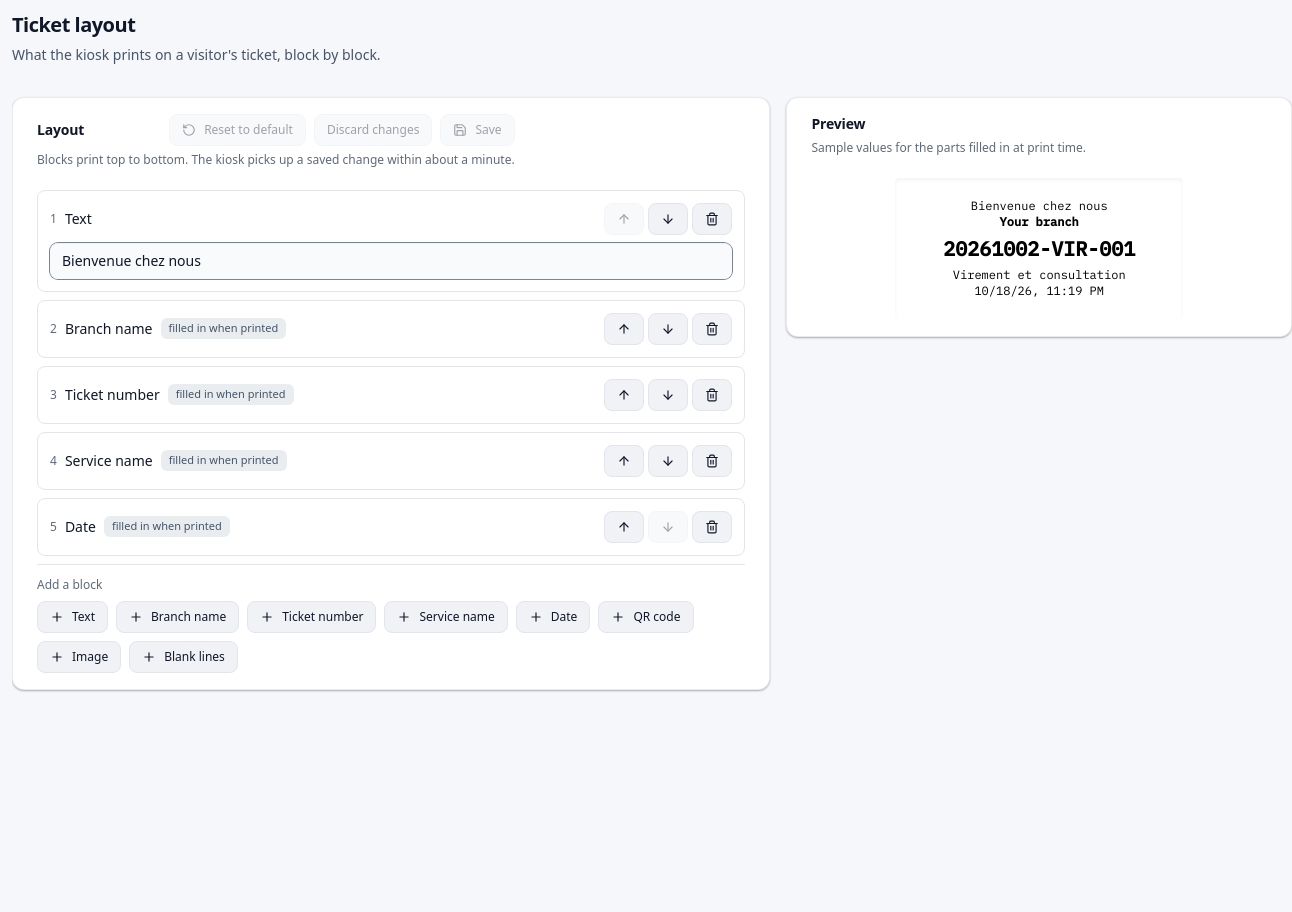
Test: TicketTemplate › saves an edit and keeps it after a reload of the layout
Expected: the button named "move block 1, text down" is shown, [648,202,688,234]
Click the button named "add text block".
click(72, 616)  # box [37,600,108,632]
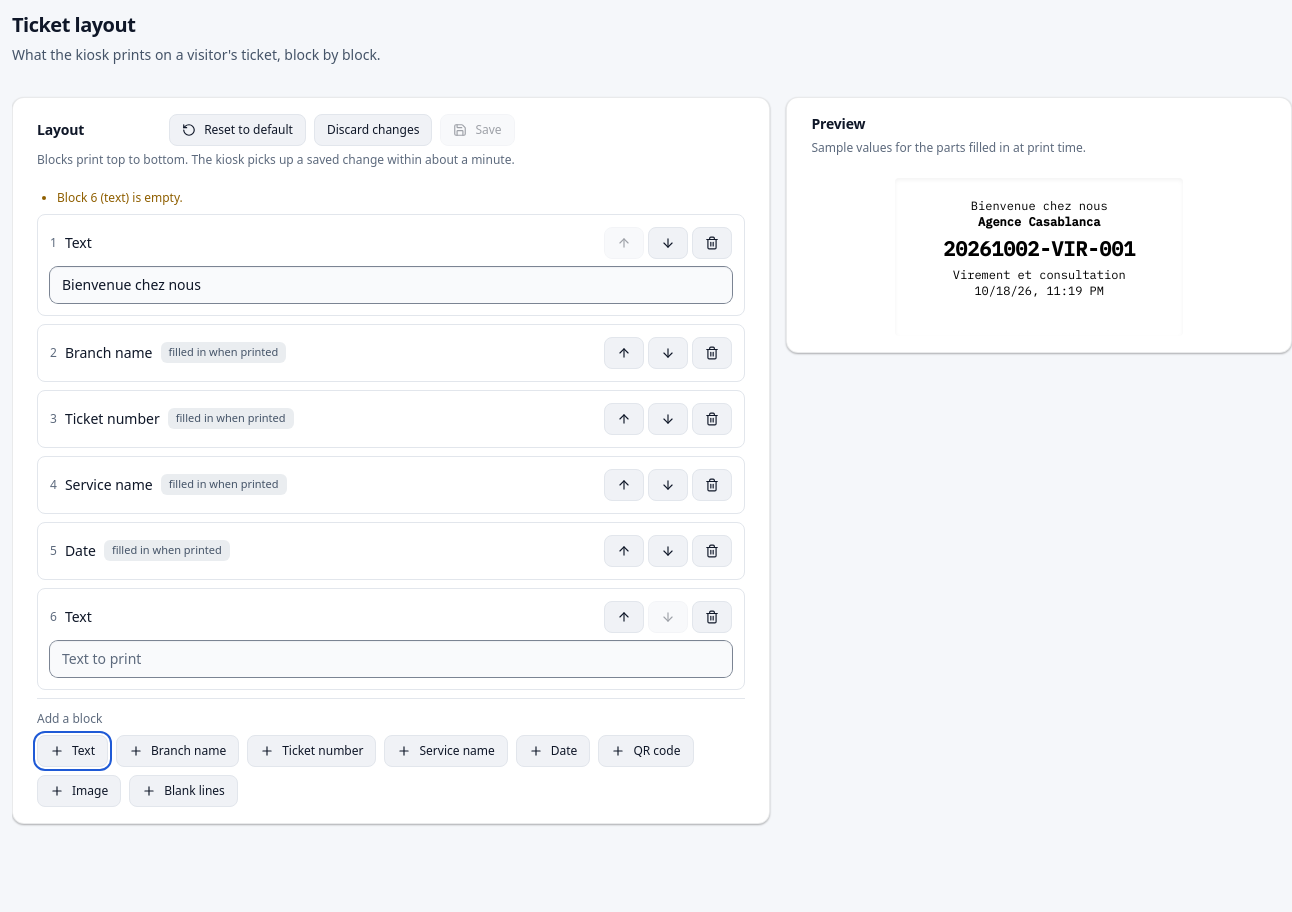
Type "Merci de votre visite" into the field named "Text content, block 6".
click(391, 658); type("Merci de votre visite")  # box [50,640,732,676]
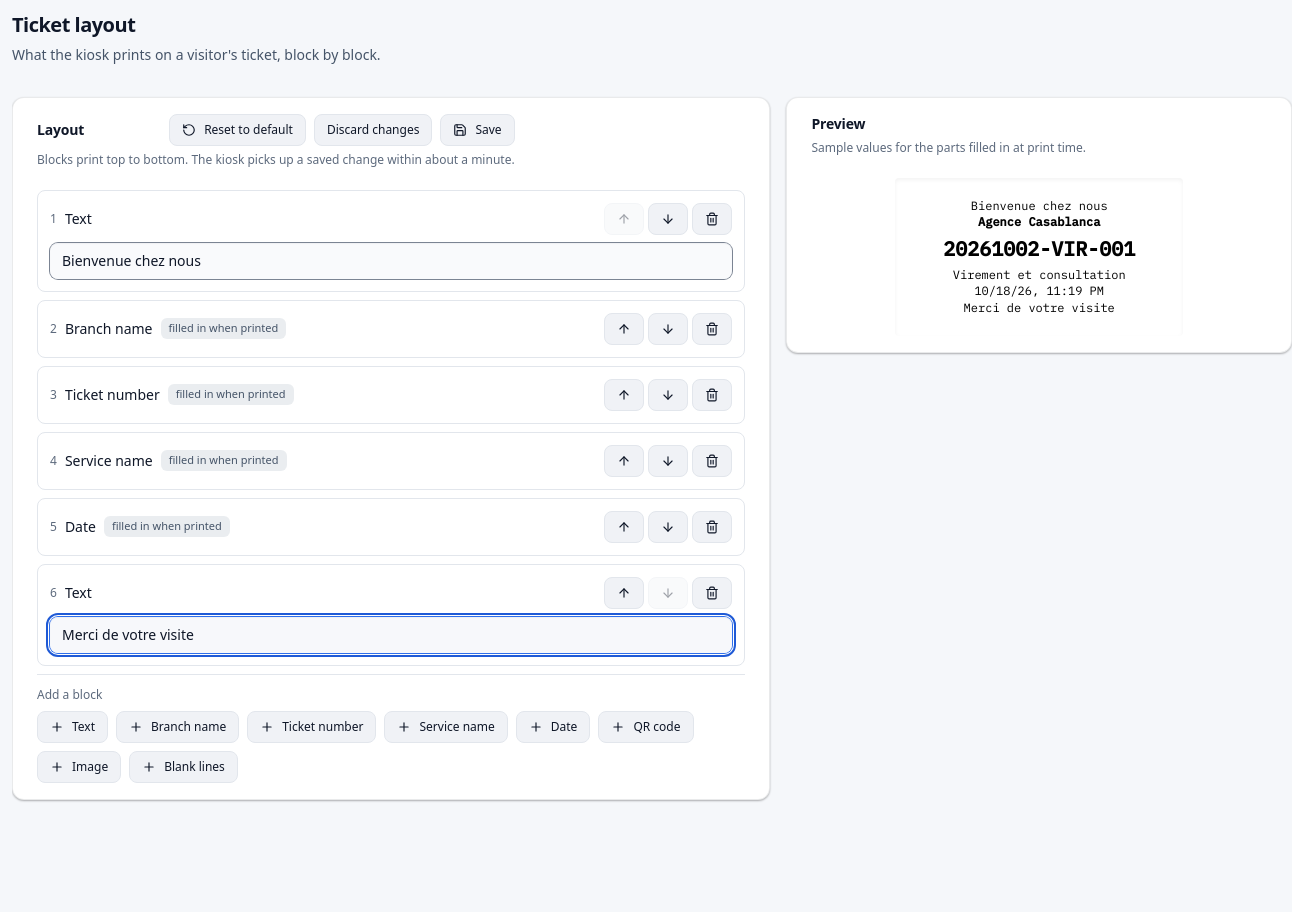
Result: the text "Merci de votre visite" is shown at [964,300,1115,314]
Click the button "Save".
click(478, 130)  # box [440,114,515,146]
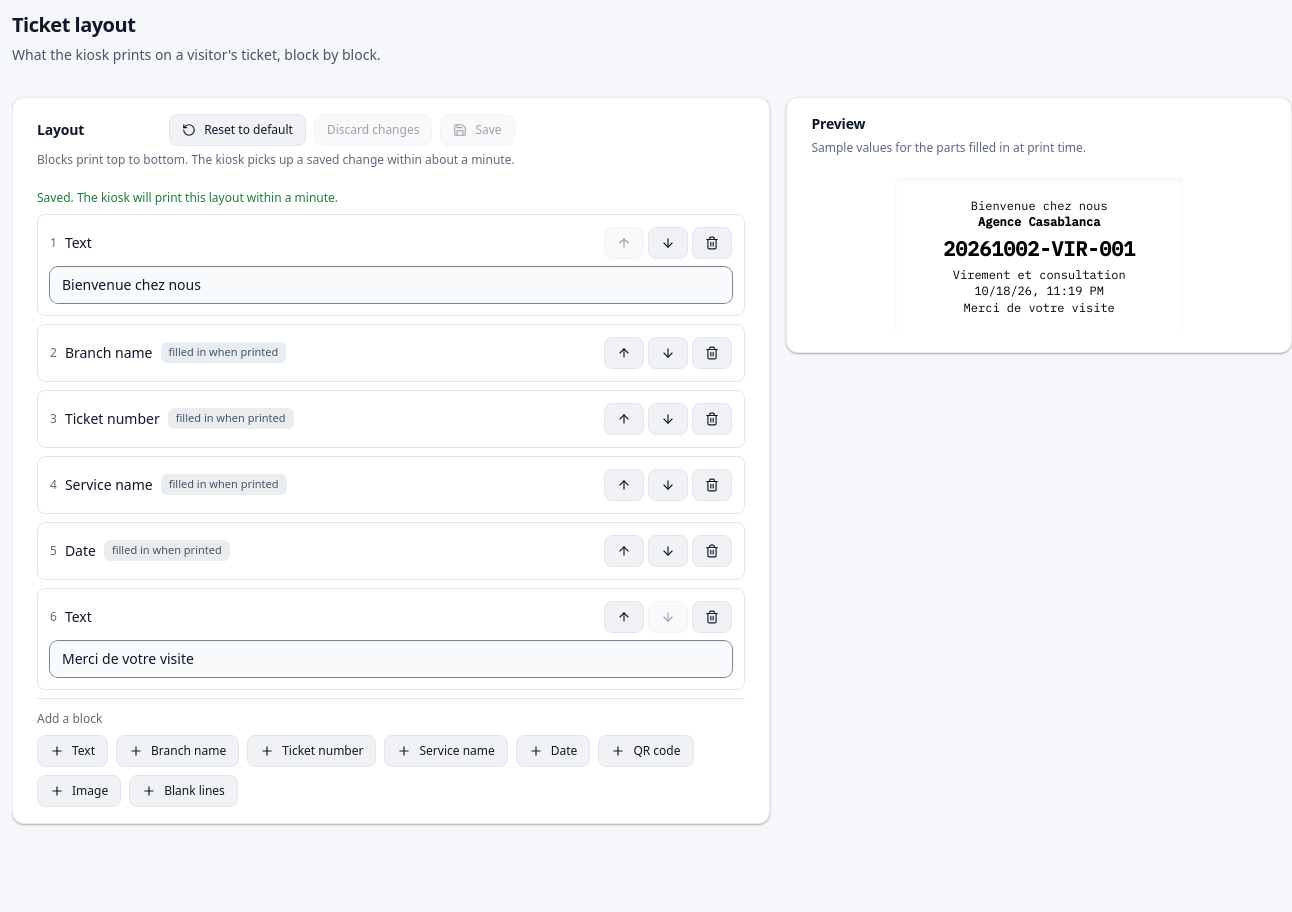
Result: the text "Merci de votre visite" is shown at [964,300,1115,314]
Result: the text "Saved. The kiosk will print this layout within a minute." is shown at [37,188,338,206]
Result: the button "Save" is disabled at [440,114,515,146]
